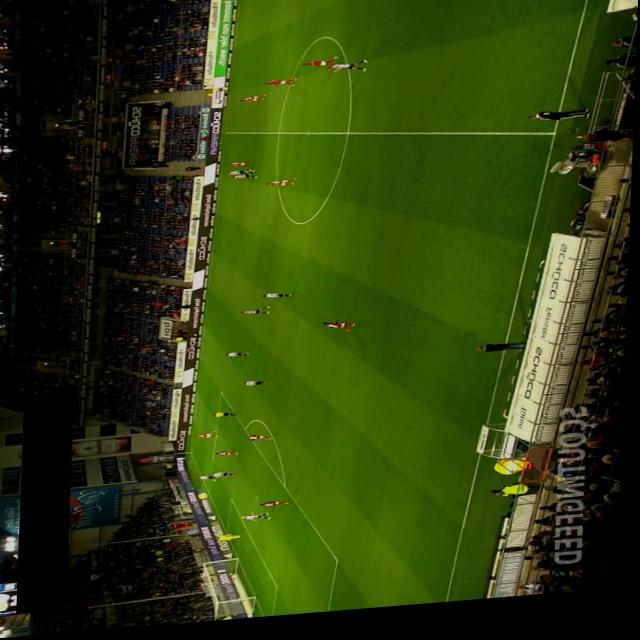goalkeeper: (220, 537, 246, 545)
player: (328, 65, 368, 79), (303, 61, 341, 73), (326, 324, 358, 336), (266, 82, 298, 92), (243, 310, 274, 320), (245, 515, 275, 525), (267, 182, 299, 191), (264, 295, 295, 303), (240, 98, 267, 107), (263, 504, 293, 512), (198, 433, 223, 442), (248, 437, 276, 445), (245, 383, 272, 391), (233, 176, 259, 184), (214, 474, 240, 482), (228, 354, 254, 362), (219, 454, 243, 461), (229, 173, 255, 179), (202, 477, 224, 484), (230, 164, 254, 170)
referee: (214, 414, 240, 421), (211, 89, 231, 96)
